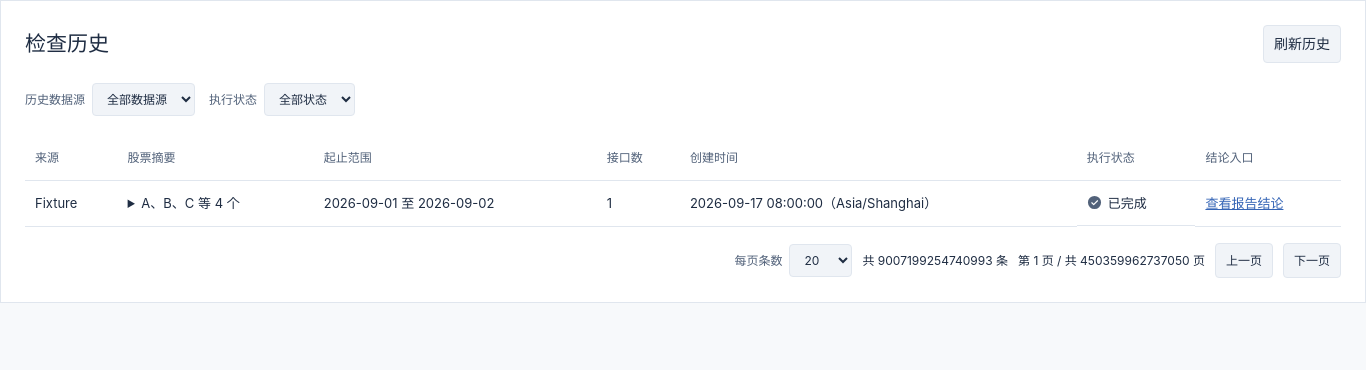
Test: preserves the same criteria snapshot when a manual refresh fails
This screenshot has width=1366, height=370.
Click the button with aria-label "刷新历史". click: (1302, 44)
box: [1263,25,1341,63]
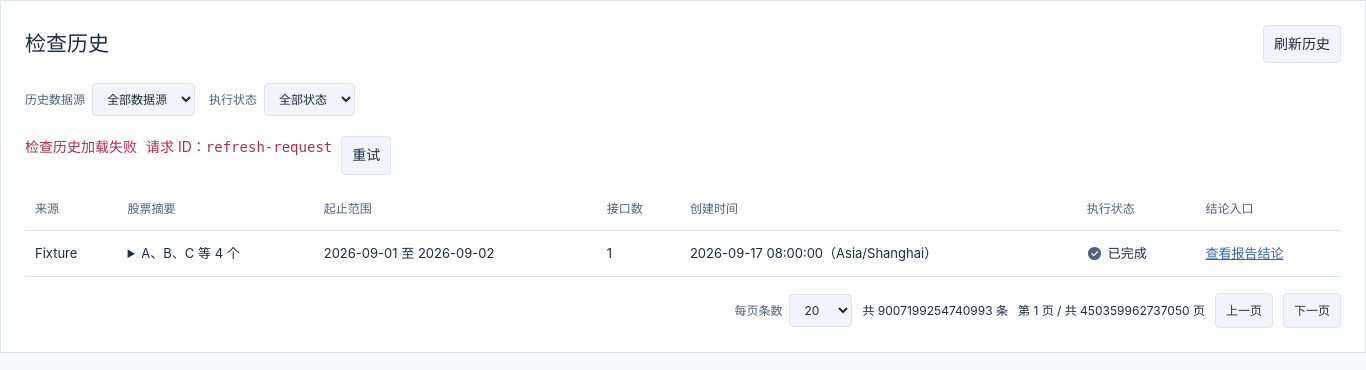
Expected: the text "查看报告结论" is shown, [1205,245,1283,261]
Result: the text "refresh-request" is shown at [206,139,332,155]
